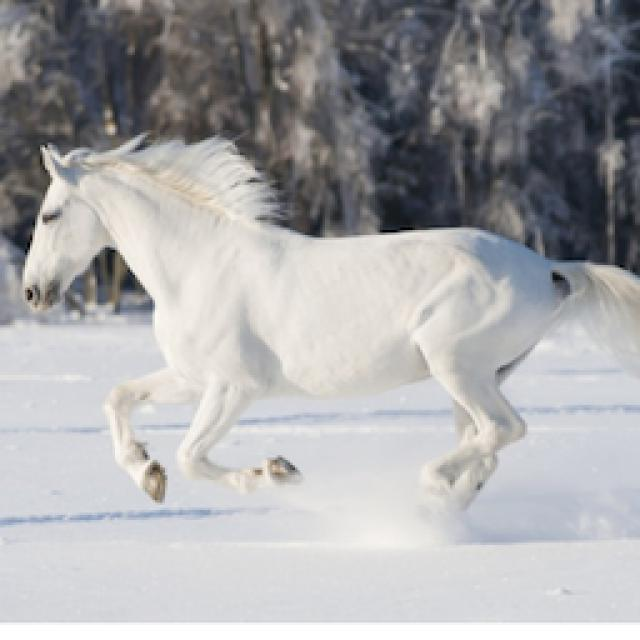Horse: (15, 122, 638, 540)
